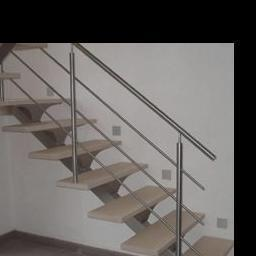Escaleras: (0, 45, 229, 256)
